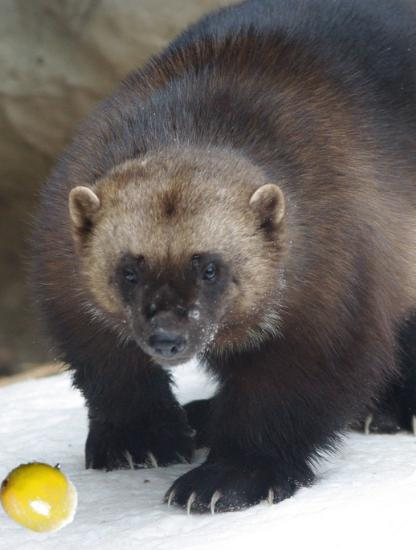Maracuja: (0, 454, 82, 536)
